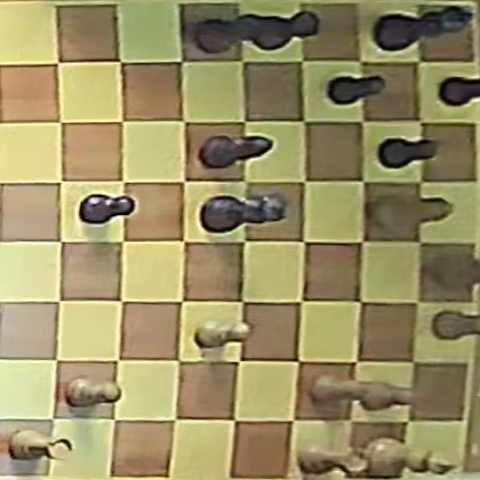black-bishop: (200, 135, 271, 169)
black-king: (376, 6, 473, 52)
black-pawn: (378, 137, 440, 169), (327, 74, 385, 105), (81, 194, 135, 224), (440, 76, 480, 106)
black-queen: (202, 194, 286, 232)
black-rook: (191, 10, 264, 55), (252, 11, 319, 50)
white-bishop: (367, 191, 453, 236)
white-king: (370, 438, 453, 475)
white-pawn: (195, 320, 252, 349), (67, 377, 120, 407), (359, 382, 412, 410), (434, 310, 480, 340), (311, 375, 357, 405)
white-queen: (433, 249, 480, 289)
white-rook: (297, 444, 368, 476), (9, 430, 71, 461)
